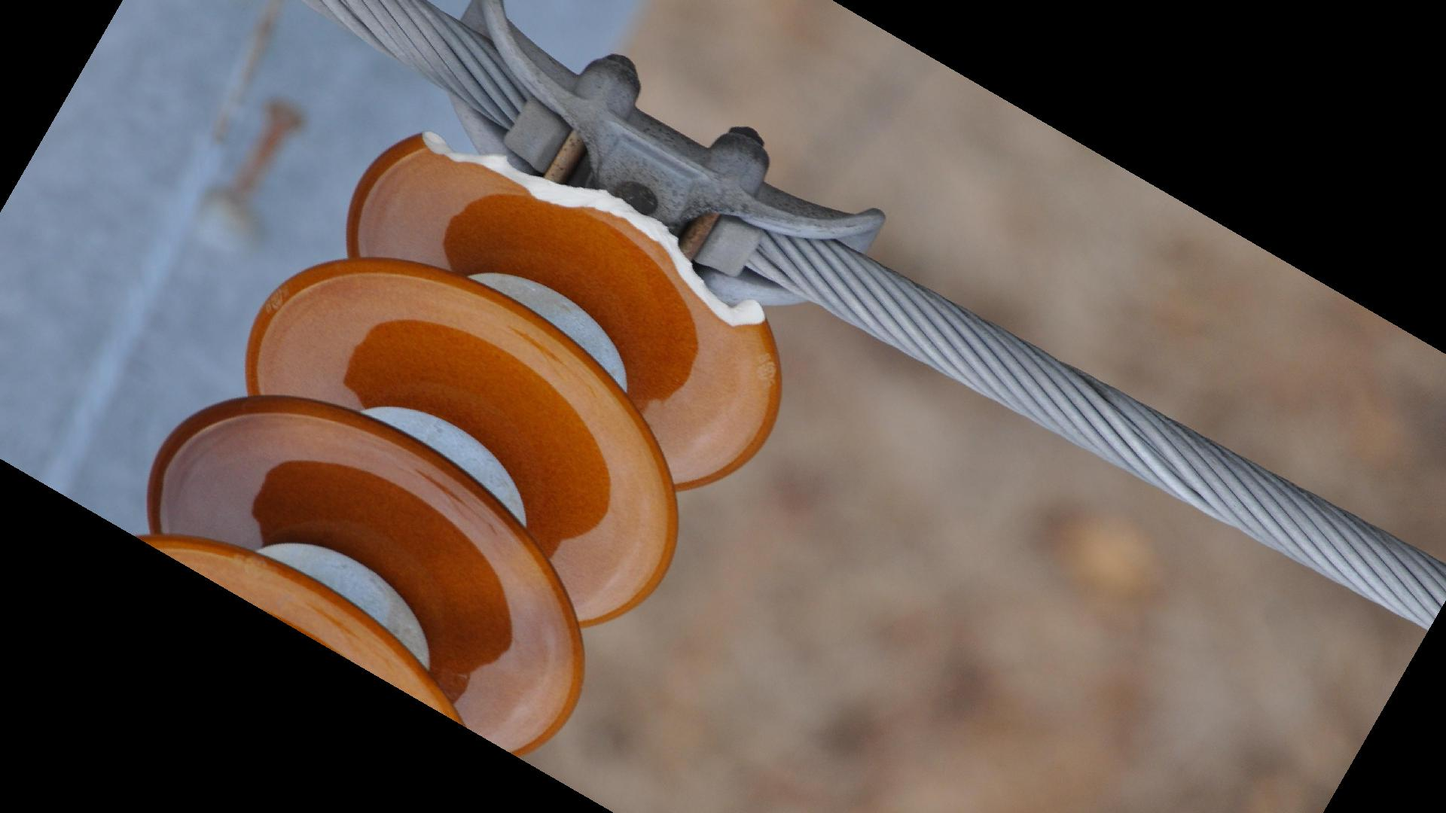insulator: (121, 126, 796, 769)
insulator_breakage: (400, 123, 776, 346)
